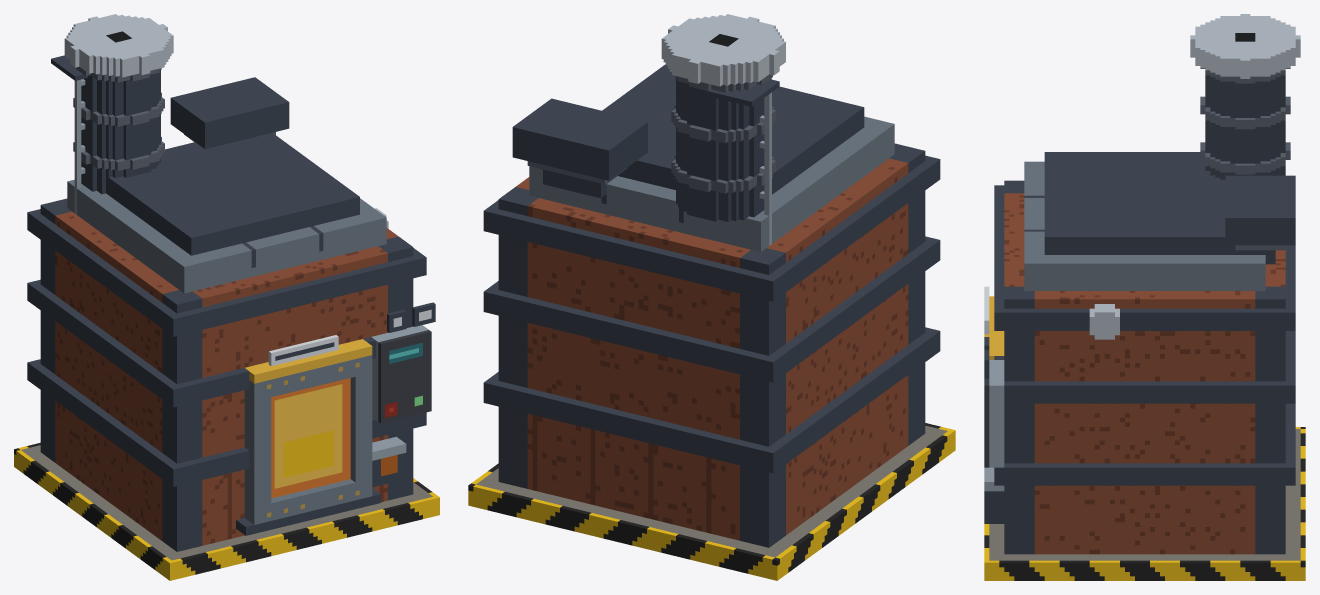
Rendered from smelter_furnace.obj.
3 views of the same model, side by side, from view 1: azimuth 30°, elevation 25°; view 2: azimuth 150°, elevation 25°; view 3: azimuth 270°, elevation 25° (orthographic). The views are drawn at different scales.
Visible parts, largest first — view 1: smelter_furnace; view 2: smelter_furnace; view 3: smelter_furnace.
Boxes of the visible parts, bbox=[...] form: smelter_furnace: bbox=[14, 14, 439, 580]; smelter_furnace: bbox=[468, 14, 955, 580]; smelter_furnace: bbox=[984, 14, 1305, 580].
Bounding box in the file's own units: 2 × 3.06 × 2.
